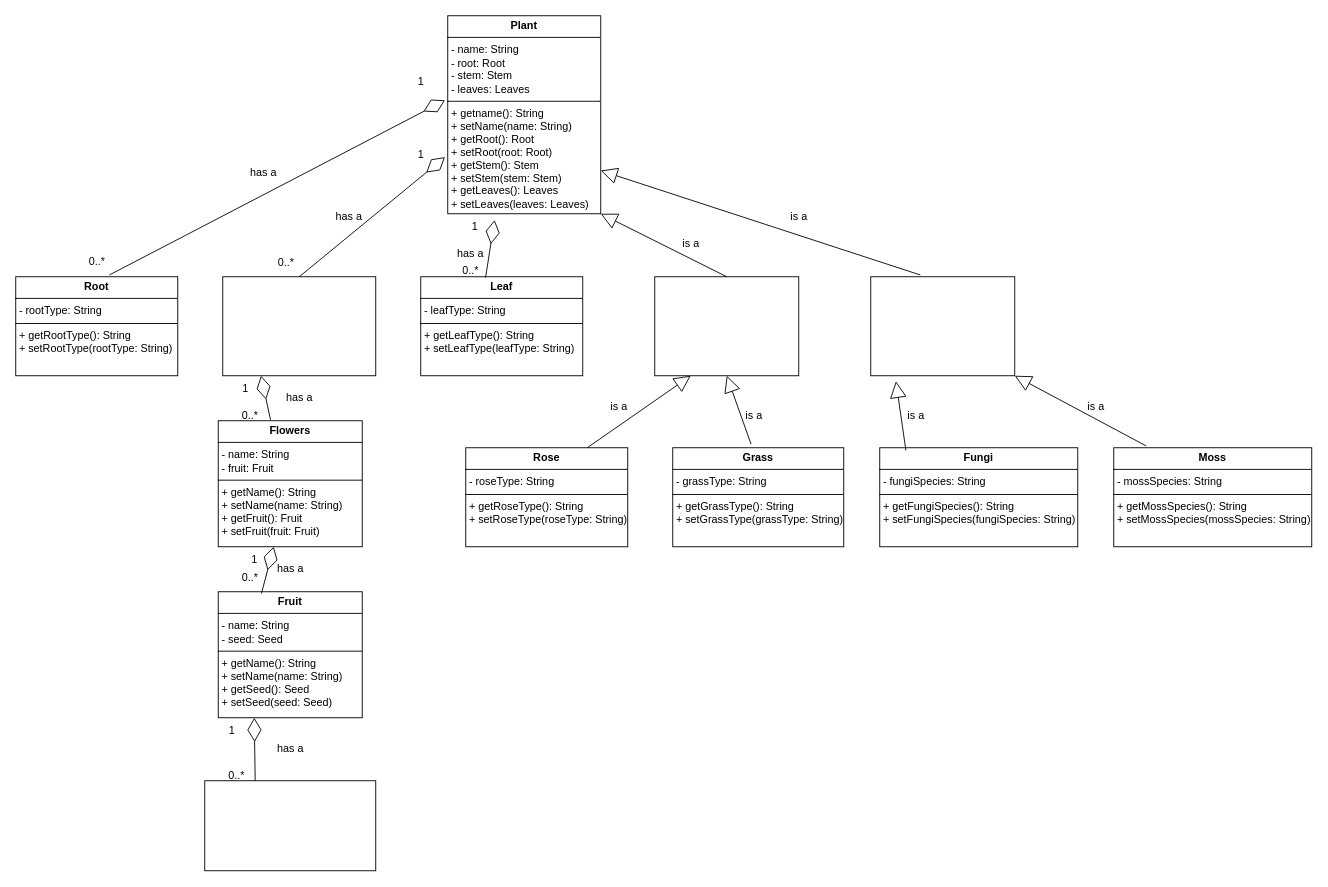
The diagram is 1328 pixels wide and 887 high, and some of its shapes have lost their labels. The shapes that lost their labels are listed below. From the top down, each one's centre as x and y in pixels, then its label:
At (x=299, y=326): "Stem - flowers: Flowers + getFlowers(): Flowers + setFlowers(flowers: Flowers)".
At (x=726, y=326): "Flowering Plant + field: Type + method(): Type".
At (x=942, y=326): "Non Flowering Plant + field: Type + method(): Type".
At (x=290, y=825): "Seed - seedType: String + getSeedType(): String + setSeedfType(seedType: String)".
